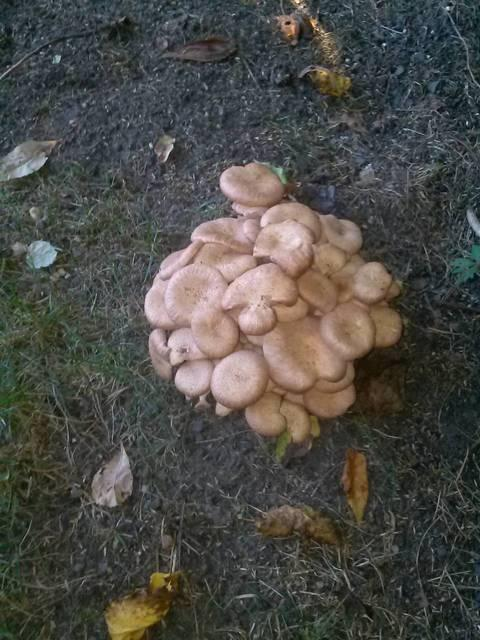Edible Mushroom: (143, 160, 403, 458)
